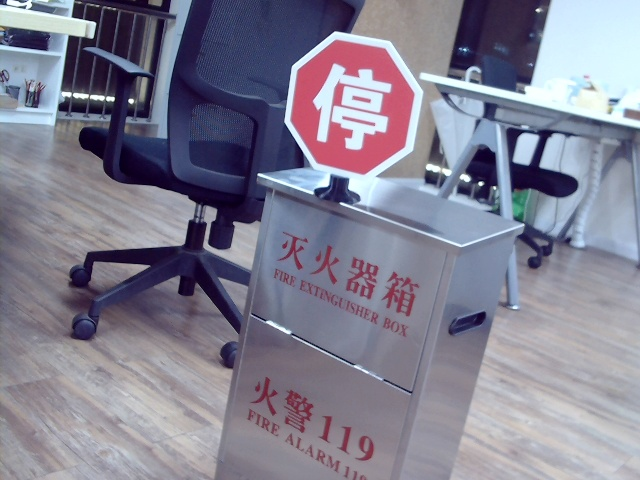stop: (312, 58, 389, 149)
